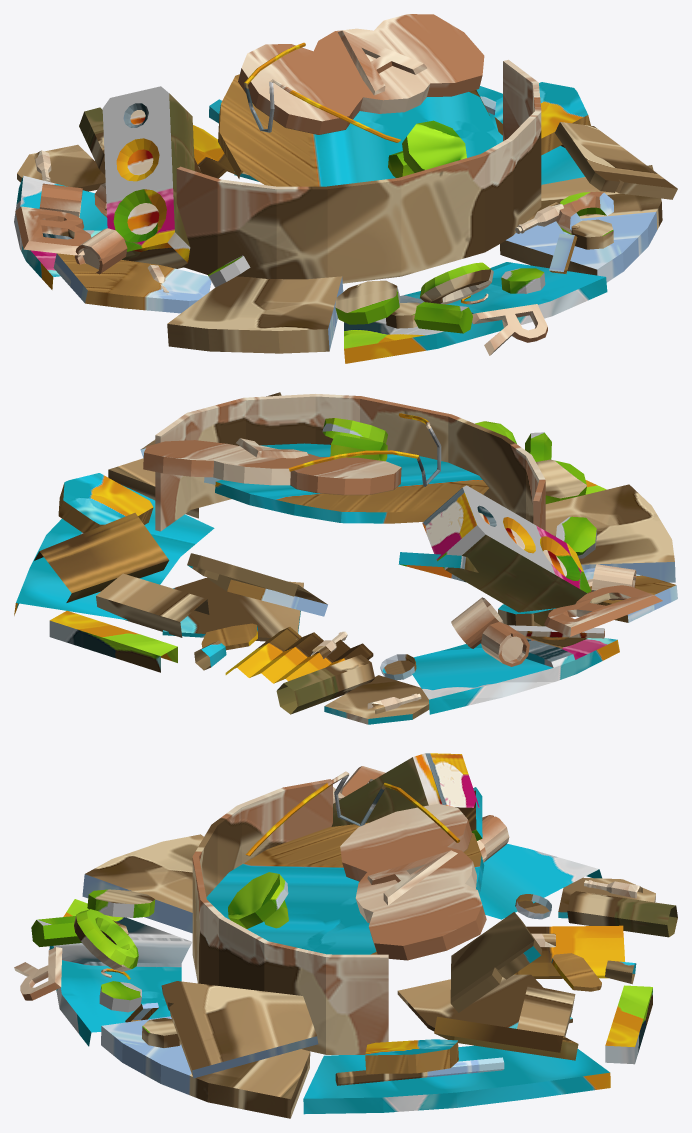
File: Cty_Bld_BarBreak01_Mod.FBX
3 renders of one model, top to bottom at view 1: azimuth 30°, elevation 25°; view 2: azimuth 150°, elevation 25°; view 3: azimuth 270°, elevation 25°, orthographic. The views are drawn at different scales.
Visible parts, largest first — view 1: Cty_Bld_BarBreak01_Mod; view 2: Cty_Bld_BarBreak01_Mod; view 3: Cty_Bld_BarBreak01_Mod.
Boxes of the visible parts, left/top/right/bottom form: Cty_Bld_BarBreak01_Mod: left=14, top=14, right=677, bottom=363; Cty_Bld_BarBreak01_Mod: left=14, top=392, right=677, bottom=724; Cty_Bld_BarBreak01_Mod: left=14, top=753, right=677, bottom=1118.
Size of the model in its own units: 911 by 867 by 249.
1 material, 1 textured.
